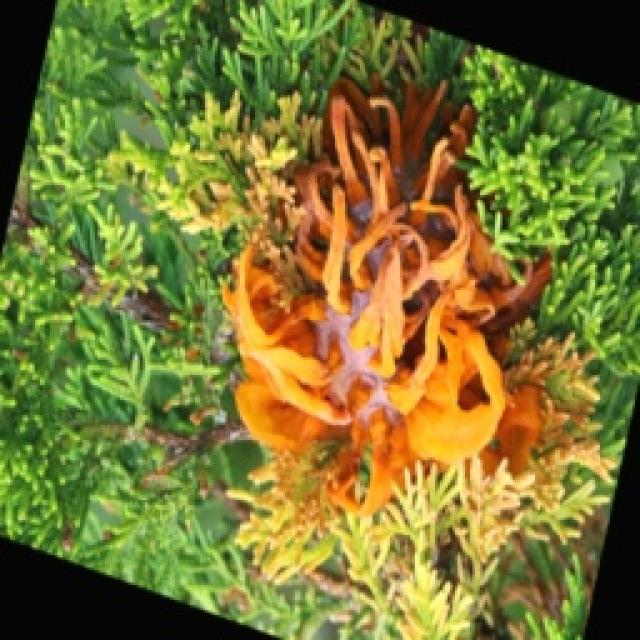Gymnosporangium_Rusts: (217, 70, 555, 520)
